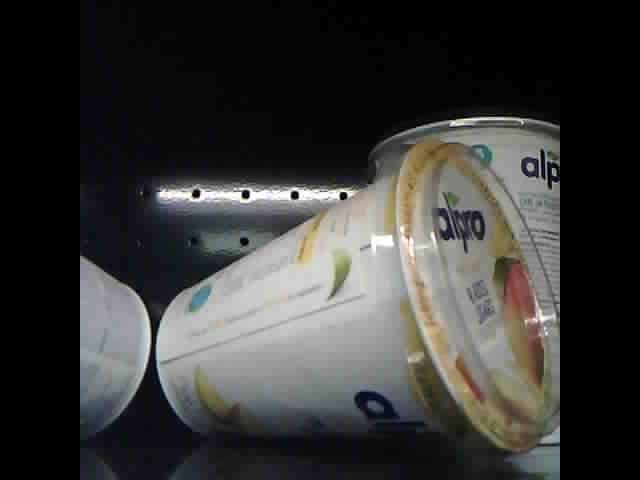alpro: (157, 137, 560, 454), (370, 113, 559, 447), (80, 249, 152, 442)
